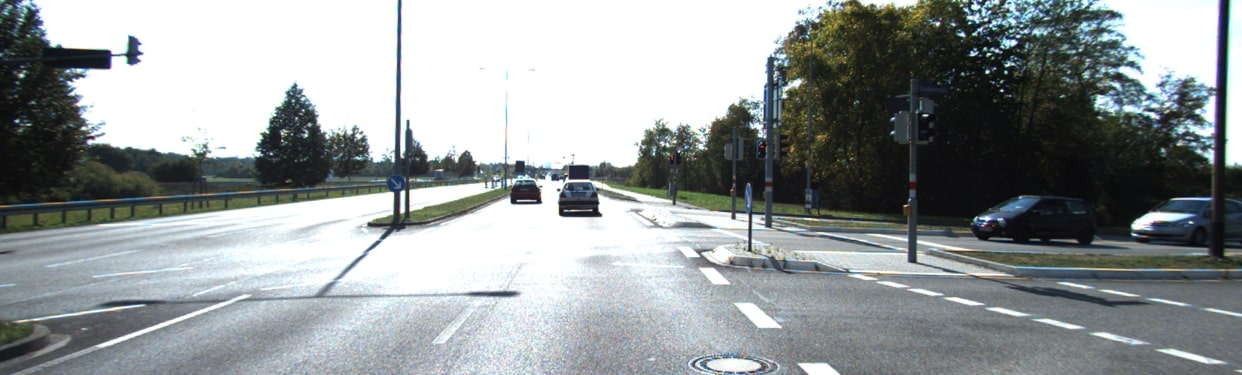car: (969, 185, 1101, 250), (1126, 189, 1239, 248), (558, 176, 597, 219), (506, 179, 545, 211)
